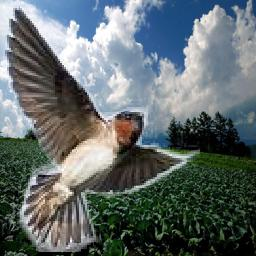Swallow: (2, 0, 201, 252)
